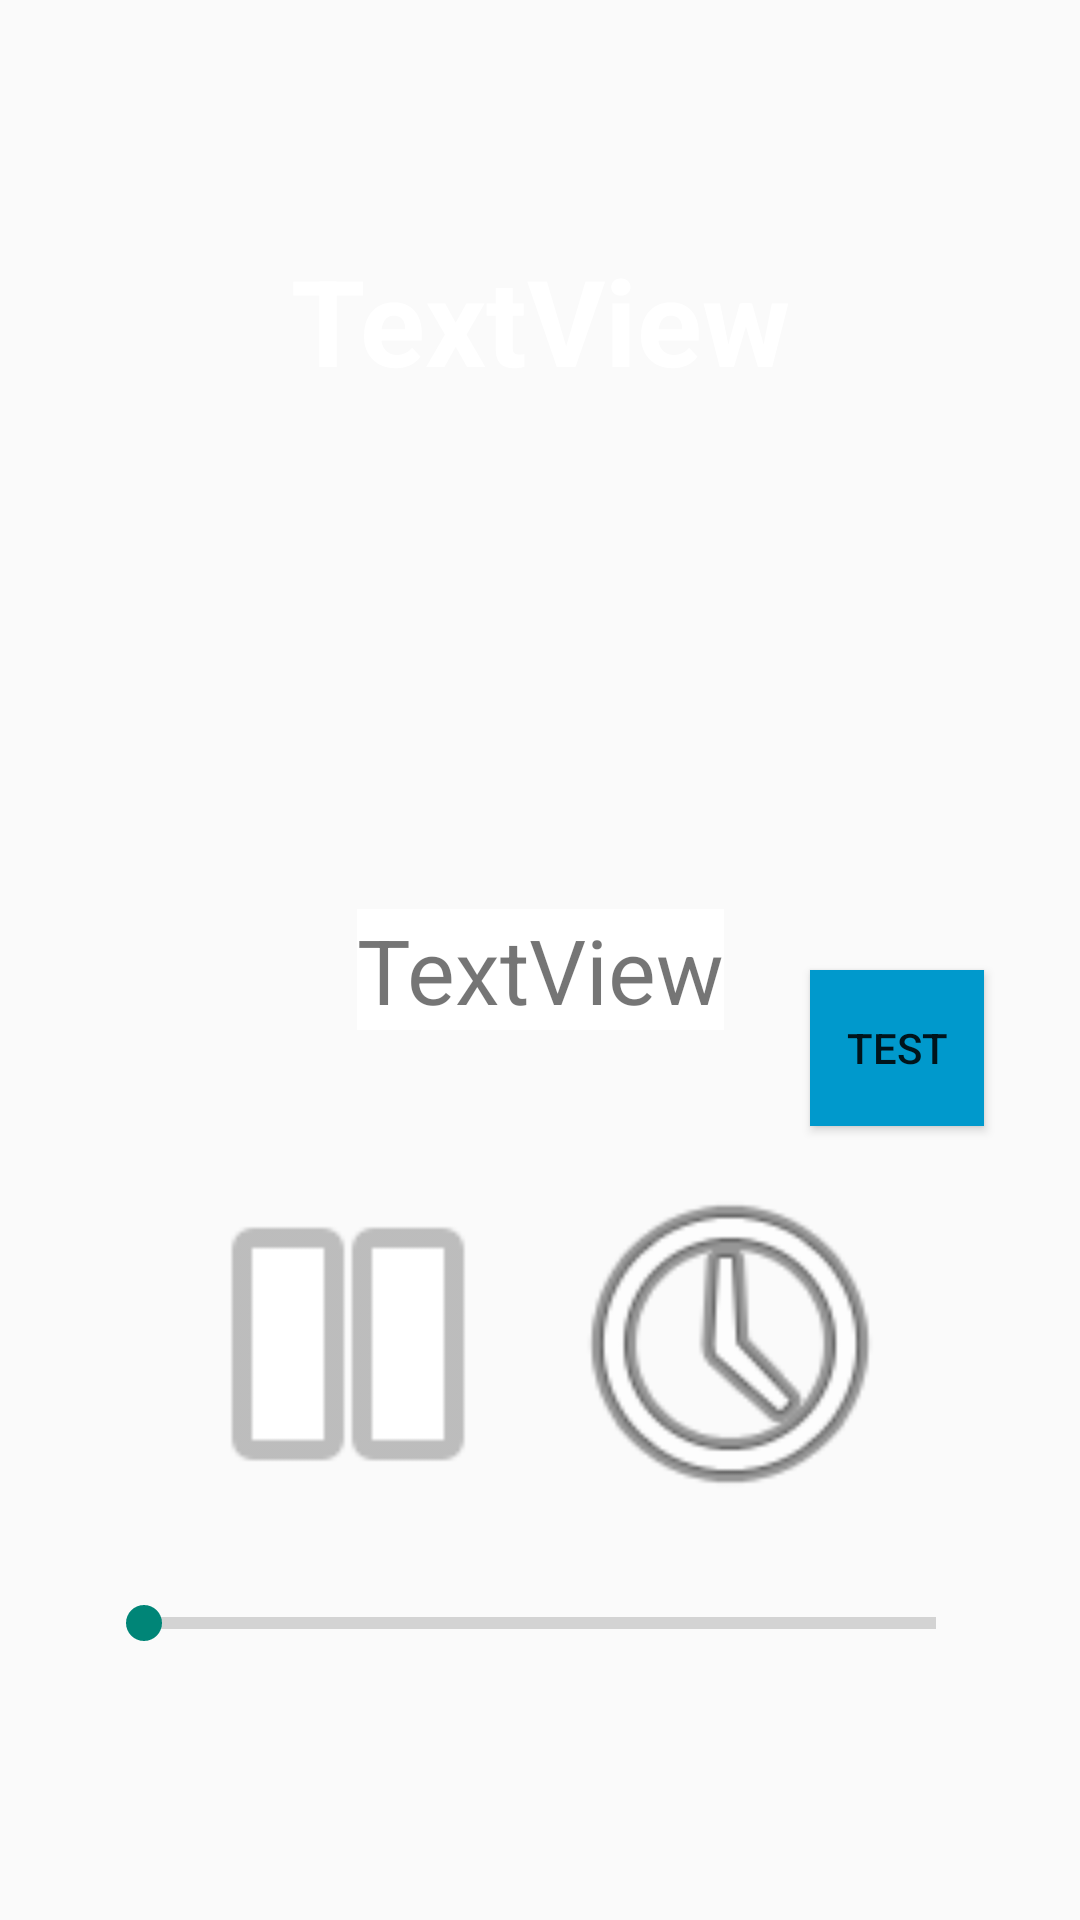

Icons on this 1080px×1920px Android screen, each with its box as (x1, y1, x2, y2):
pause: (232, 1228, 464, 1460)
recent history: (591, 1205, 869, 1483)
